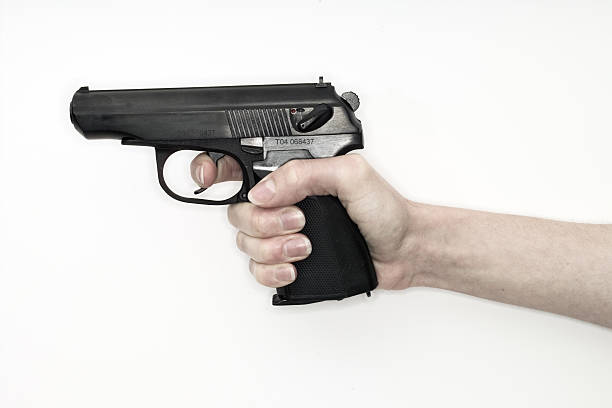pistol: (68, 73, 378, 311)
